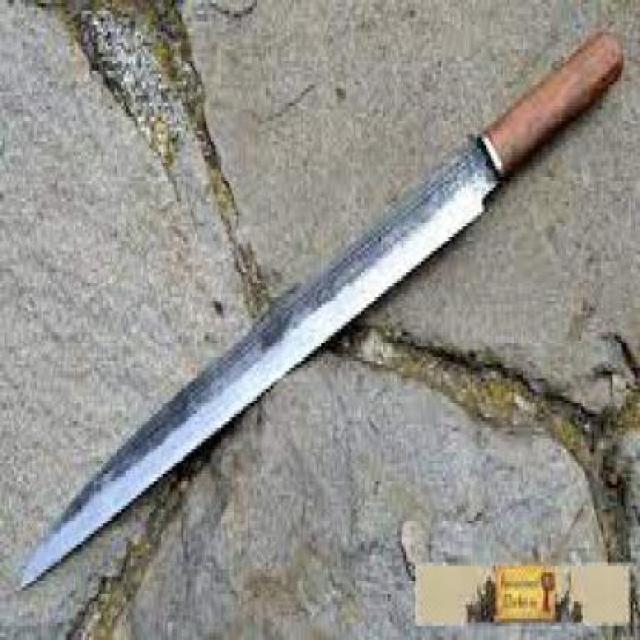-: (14, 27, 627, 597)
